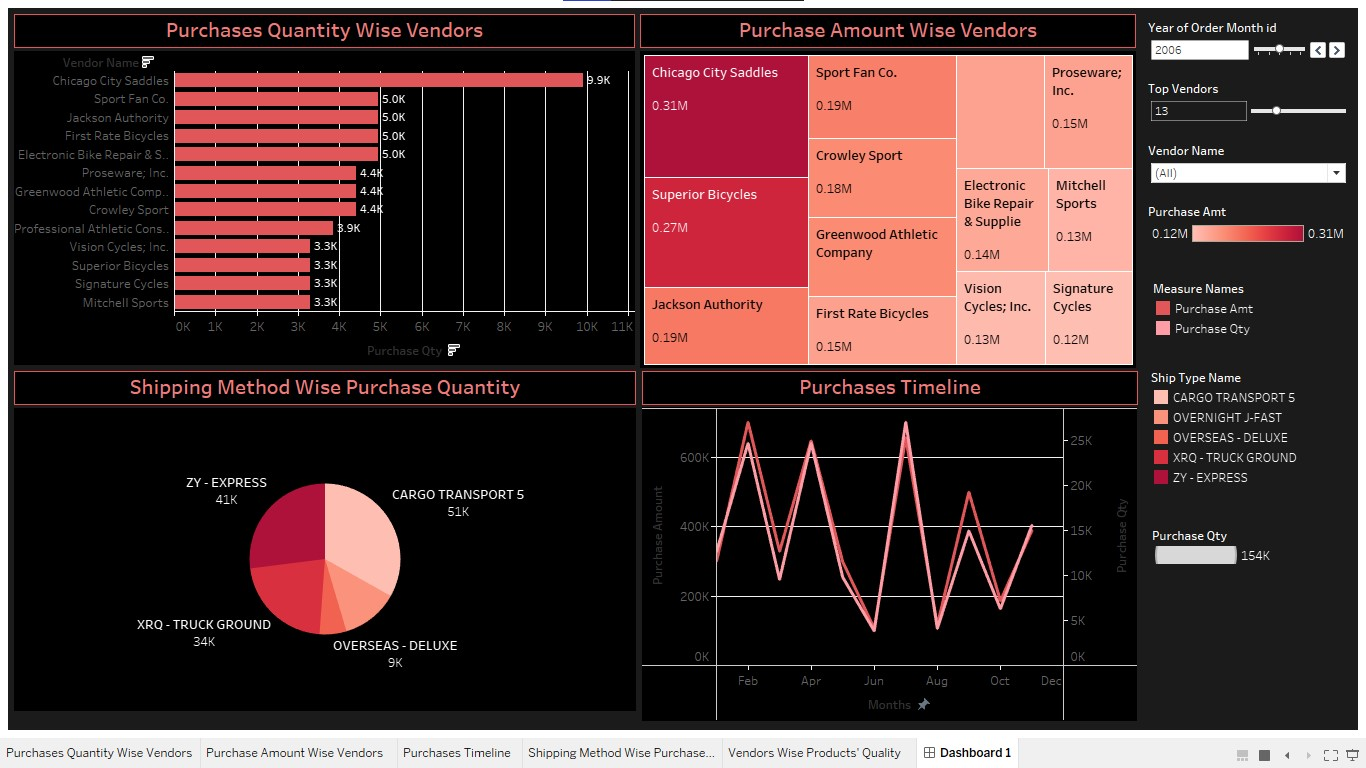

The dashboard page shown, as its layout file describes it:
{"tool":"tableau","page":{"name":"Dashboard 1","canvas":[1000,1000],"units":"permille","ordinal":0},"visuals":[{"type":"worksheet","title":"Purchases Quantity Wise Vendors","mark":"Automatic","rows":["Vendor_Name"],"cols":["Purchase_Qty"],"box":[10.4,18.6,454.6,476.4]},{"type":"worksheet","title":"Purchase Amount Wise Vendors","mark":"Automatic","box":[468.7,18.6,363.4,479.7]},{"type":"filter","title":"Purchases Quantity Wise Vendors","param":"[federated.1fb36v10bz4ico12jks740tkge4p].[yr:Order_Month_id:ok]","box":[837.6,20.3,152.8,83.2]},{"type":"parameter","param":"[Parameters].[Parameter 3]","box":[837.6,103.5,152.8,83.2]},{"type":"filter","title":"Purchase Amount Wise Vendors","param":"[federated.1fb36v10bz4ico12jks740tkge4p].[none:Vendor_Name:nk]","box":[837.6,186.7,152.8,83.2]},{"type":"legend","title":"Purchase Amount Wise Vendors","param":"[federated.1fb36v10bz4ico12jks740tkge4p].[sum:Purchase_Amt:qk]","box":[837.6,269.8,152.8,83.2]},{"type":"legend","title":"Purchases Timeline","param":"[federated.1fb36v10bz4ico12jks740tkge4p].[:Measure Names]","box":[844.2,380.1,134.6,98]},{"type":"legend","title":"Shipping Method Wise Purchase Quantity","param":"[federated.1fb36v10bz4ico12jks740tkge4p].[none:Ship_Type_Name:nk]","box":[842.3,500,144.2,199.3]},{"type":"worksheet","title":"Shipping Method Wise Purchase Quantity","mark":"Pie","box":[10.4,503.4,455.4,473]},{"type":"worksheet","title":"Purchases Timeline","mark":"Automatic","rows":["Purchase_Amt","Purchase_Qty"],"cols":["Order_Month_id"],"box":[470.2,503.4,363.4,474.7]},{"type":"legend","title":"Shipping Method Wise Purchase Quantity","param":"[federated.1fb36v10bz4ico12jks740tkge4p].[sum:Purchase_Qty:qk]","box":[843.3,714.5,134.6,64.2]}]}

Visuals, with their boxes on the dashboard's canvas, which has no fixed pixel size, in thousandths of its width and height (x1, y1, x2, y2). These are canvas units, not pixel positions in the 1366x768 screenshot, which may show the page scaled, cropped or inside an application window:
"Purchases Quantity Wise Vendors" worksheet: box(10, 19, 465, 495)
"Purchase Amount Wise Vendors" worksheet: box(469, 19, 832, 498)
"Purchases Quantity Wise Vendors" filter: box(838, 20, 990, 104)
parameter: box(838, 104, 990, 187)
"Purchase Amount Wise Vendors" filter: box(838, 187, 990, 270)
"Purchase Amount Wise Vendors" legend: box(838, 270, 990, 353)
"Purchases Timeline" legend: box(844, 380, 979, 478)
"Shipping Method Wise Purchase Quantity" legend: box(842, 500, 986, 699)
"Shipping Method Wise Purchase Quantity" worksheet (Pie marks): box(10, 503, 466, 976)
"Purchases Timeline" worksheet: box(470, 503, 834, 978)
"Shipping Method Wise Purchase Quantity" legend: box(843, 714, 978, 779)
